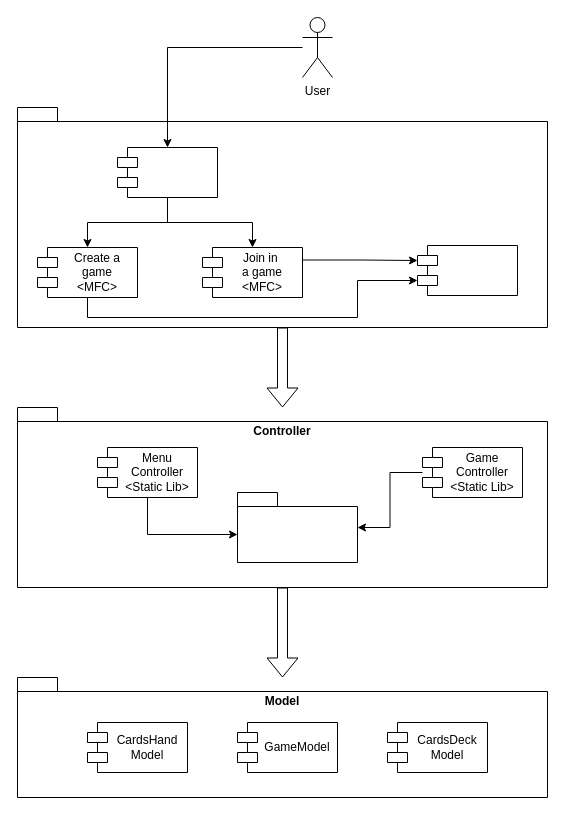
Image size: 565x815. Some labels were removed from this diagram. Here are the shapes that lost their labels. From the top down, the box of each, then its label:
(116, 146, 218, 198): Menu <MFC>
(16, 106, 548, 328): View
(416, 244, 518, 296): Play the game <MFC>
(236, 492, 358, 562): Communication Controller <Namedpipe>
